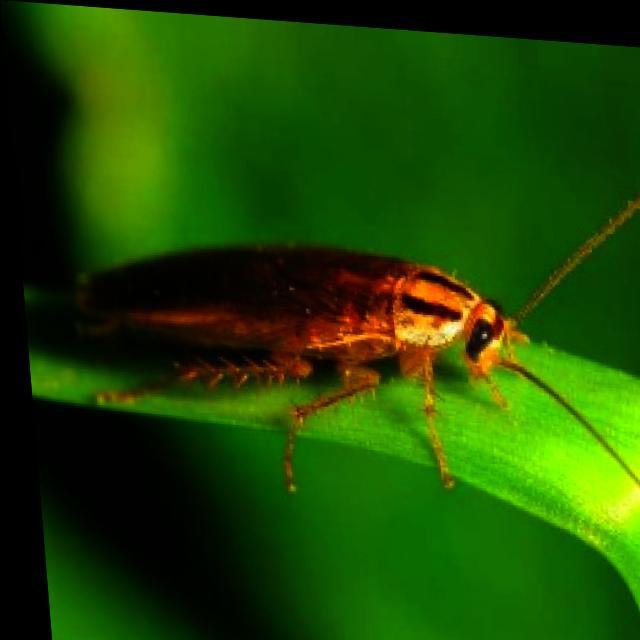cockroach: (68, 187, 638, 502)
